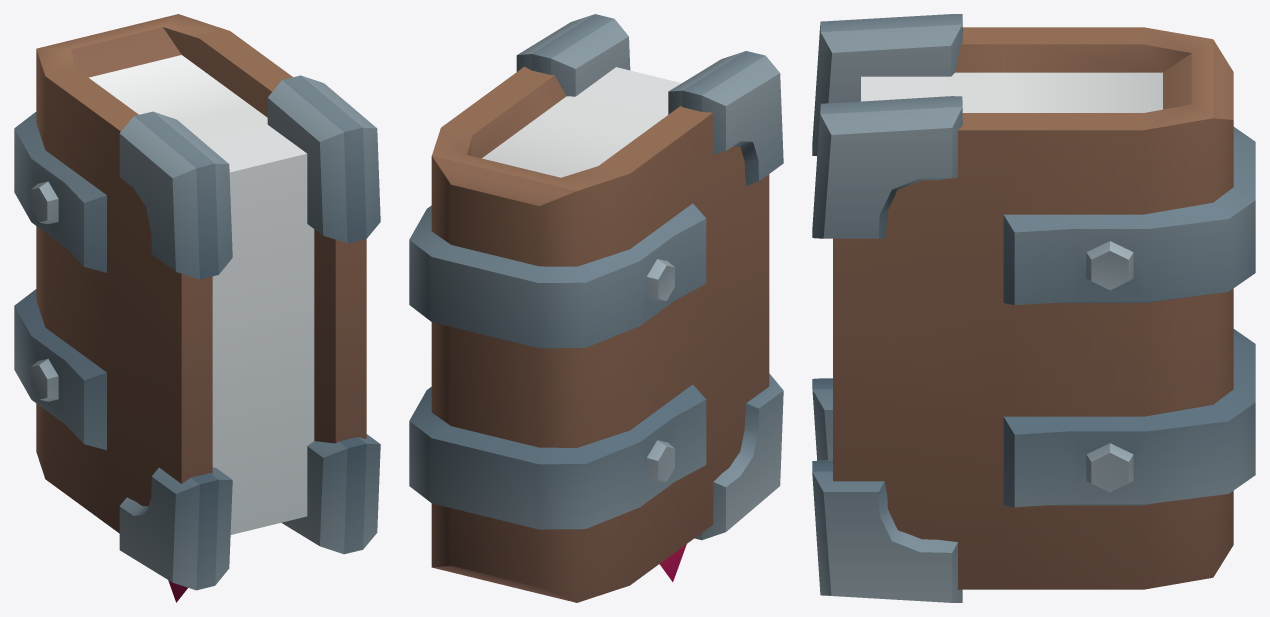
The model's file is journal-closed.glb.
The picture shows the model from 3 angles, left to right: view 1: azimuth 30°, elevation 25°; view 2: azimuth 150°, elevation 25°; view 3: azimuth 270°, elevation 25°; orthographic projection. The views are drawn at different scales.
Visible parts, largest first — view 1: journal_closed; view 2: journal_closed; view 3: journal_closed.
Boxes of the visible parts, box(x1,y1,x2,y2) form: journal_closed: box(14, 14, 380, 602); journal_closed: box(409, 14, 783, 602); journal_closed: box(812, 14, 1255, 602).
Bounding box in the file's own units: 0.3835 × 0.7914 × 0.5691.
1 material, 1 textured.
